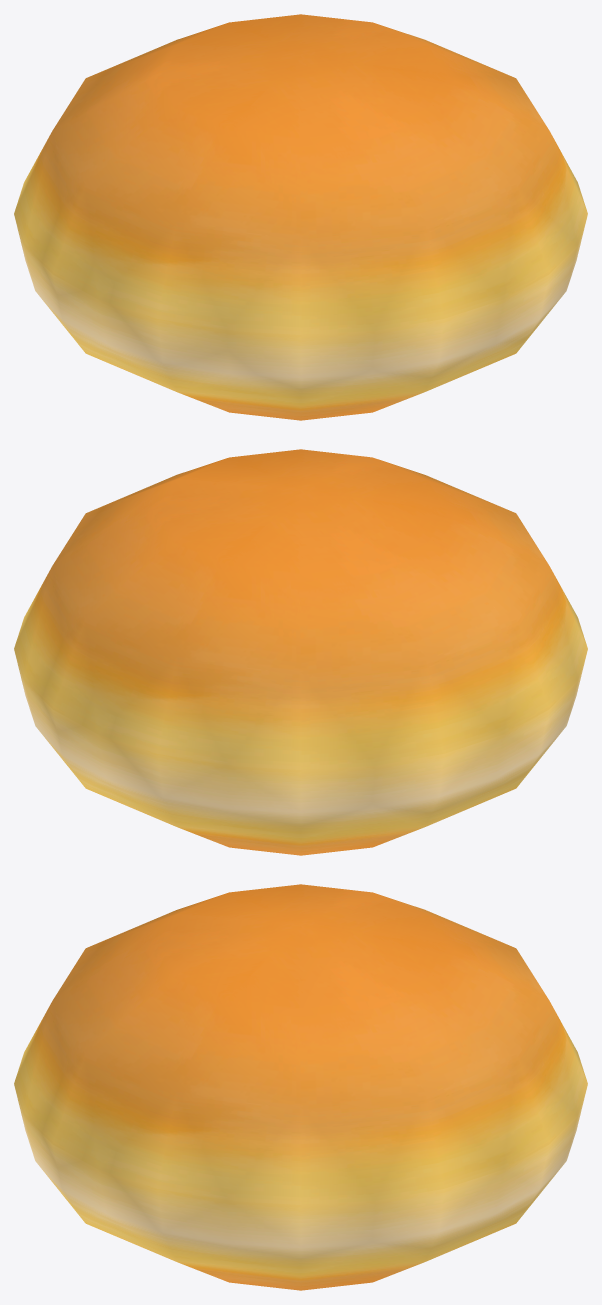
Rendered from desert_sector.glb.
The picture shows the model from 3 angles, top to bottom: view 1: azimuth 30°, elevation 25°; view 2: azimuth 150°, elevation 25°; view 3: azimuth 270°, elevation 25°; orthographic projection.
Visible parts, largest first — view 1: Mesh_0012.rip_Mesh_0012.rip.003; view 2: Mesh_0012.rip_Mesh_0012.rip.003; view 3: Mesh_0012.rip_Mesh_0012.rip.003.
Boxes of the visible parts, x1,y1,x2,y2 form: Mesh_0012.rip_Mesh_0012.rip.003: [14, 14, 587, 420]; Mesh_0012.rip_Mesh_0012.rip.003: [14, 449, 587, 855]; Mesh_0012.rip_Mesh_0012.rip.003: [14, 884, 587, 1290].
Size of the model in its own units: 640 by 409 by 640.
Materials: 29 (29 with a texture image).
